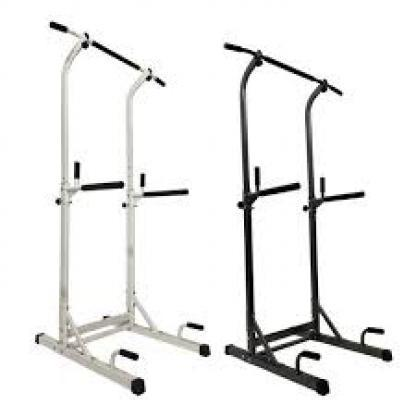chinning dipping: (36, 22, 211, 396), (220, 42, 398, 392)
